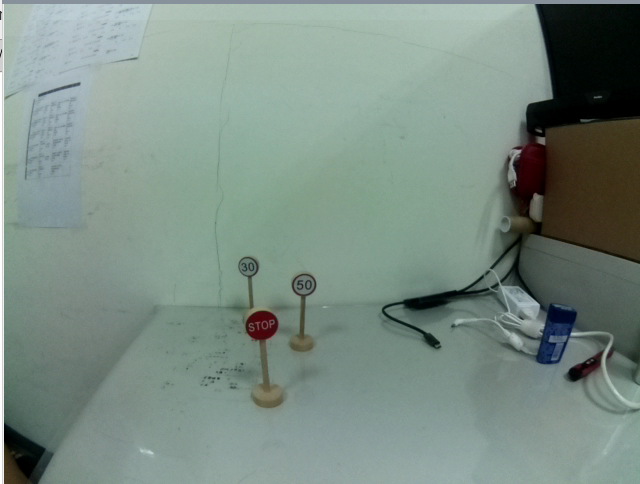Speed30: (235, 255, 264, 278)
Speed50: (292, 271, 318, 298)
Stop: (240, 309, 280, 342)
